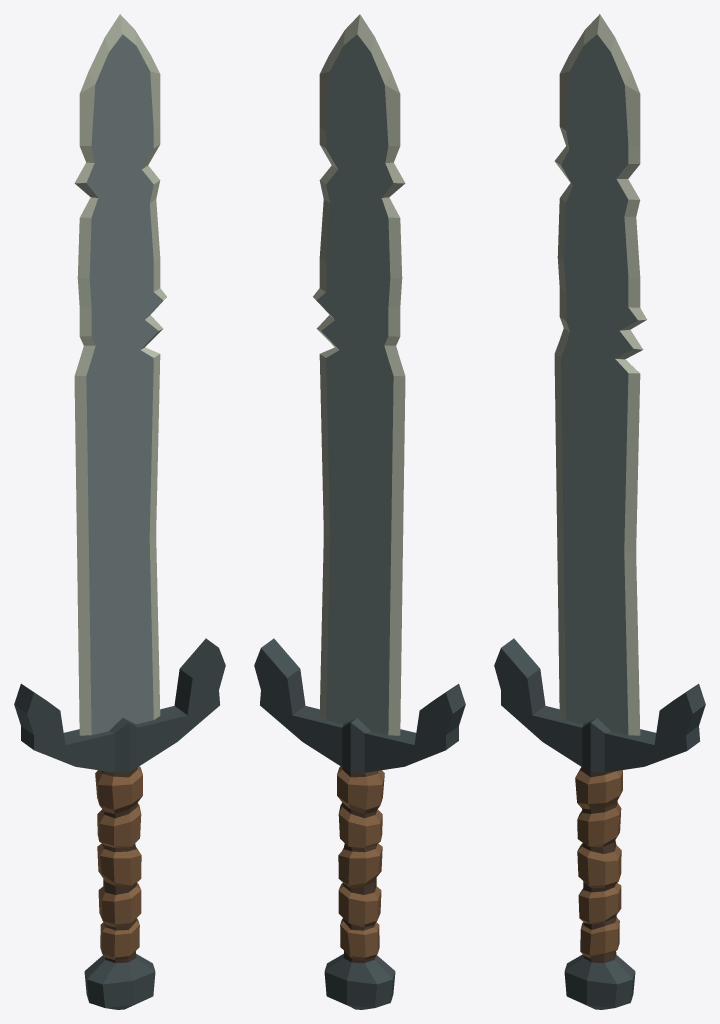
Rendered from sword-straight-crossguard.glb.
3 views of the same model, side by side, from view 1: azimuth 30°, elevation 25°; view 2: azimuth 150°, elevation 25°; view 3: azimuth 330°, elevation 25° (orthographic).
Parts seen in each view (by area): view 1: sword-straight-crossguard runtime mesh; view 2: sword-straight-crossguard runtime mesh; view 3: sword-straight-crossguard runtime mesh.
Part boxes in pixels (x1,y1,x2,y2): sword-straight-crossguard runtime mesh: [14, 14, 225, 1009]; sword-straight-crossguard runtime mesh: [254, 14, 465, 1009]; sword-straight-crossguard runtime mesh: [494, 14, 705, 1009].
Bounding box in the file's own units: 0.2305 × 1.1 × 0.0527.
